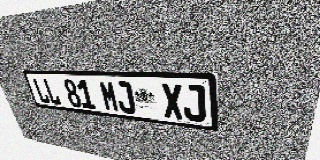1: (75, 80, 96, 109)
8: (62, 79, 83, 108)
J: (182, 84, 206, 122), (114, 81, 136, 114)
L: (42, 78, 62, 105), (32, 78, 51, 104)
M: (98, 81, 120, 112)
X: (161, 83, 184, 120)
